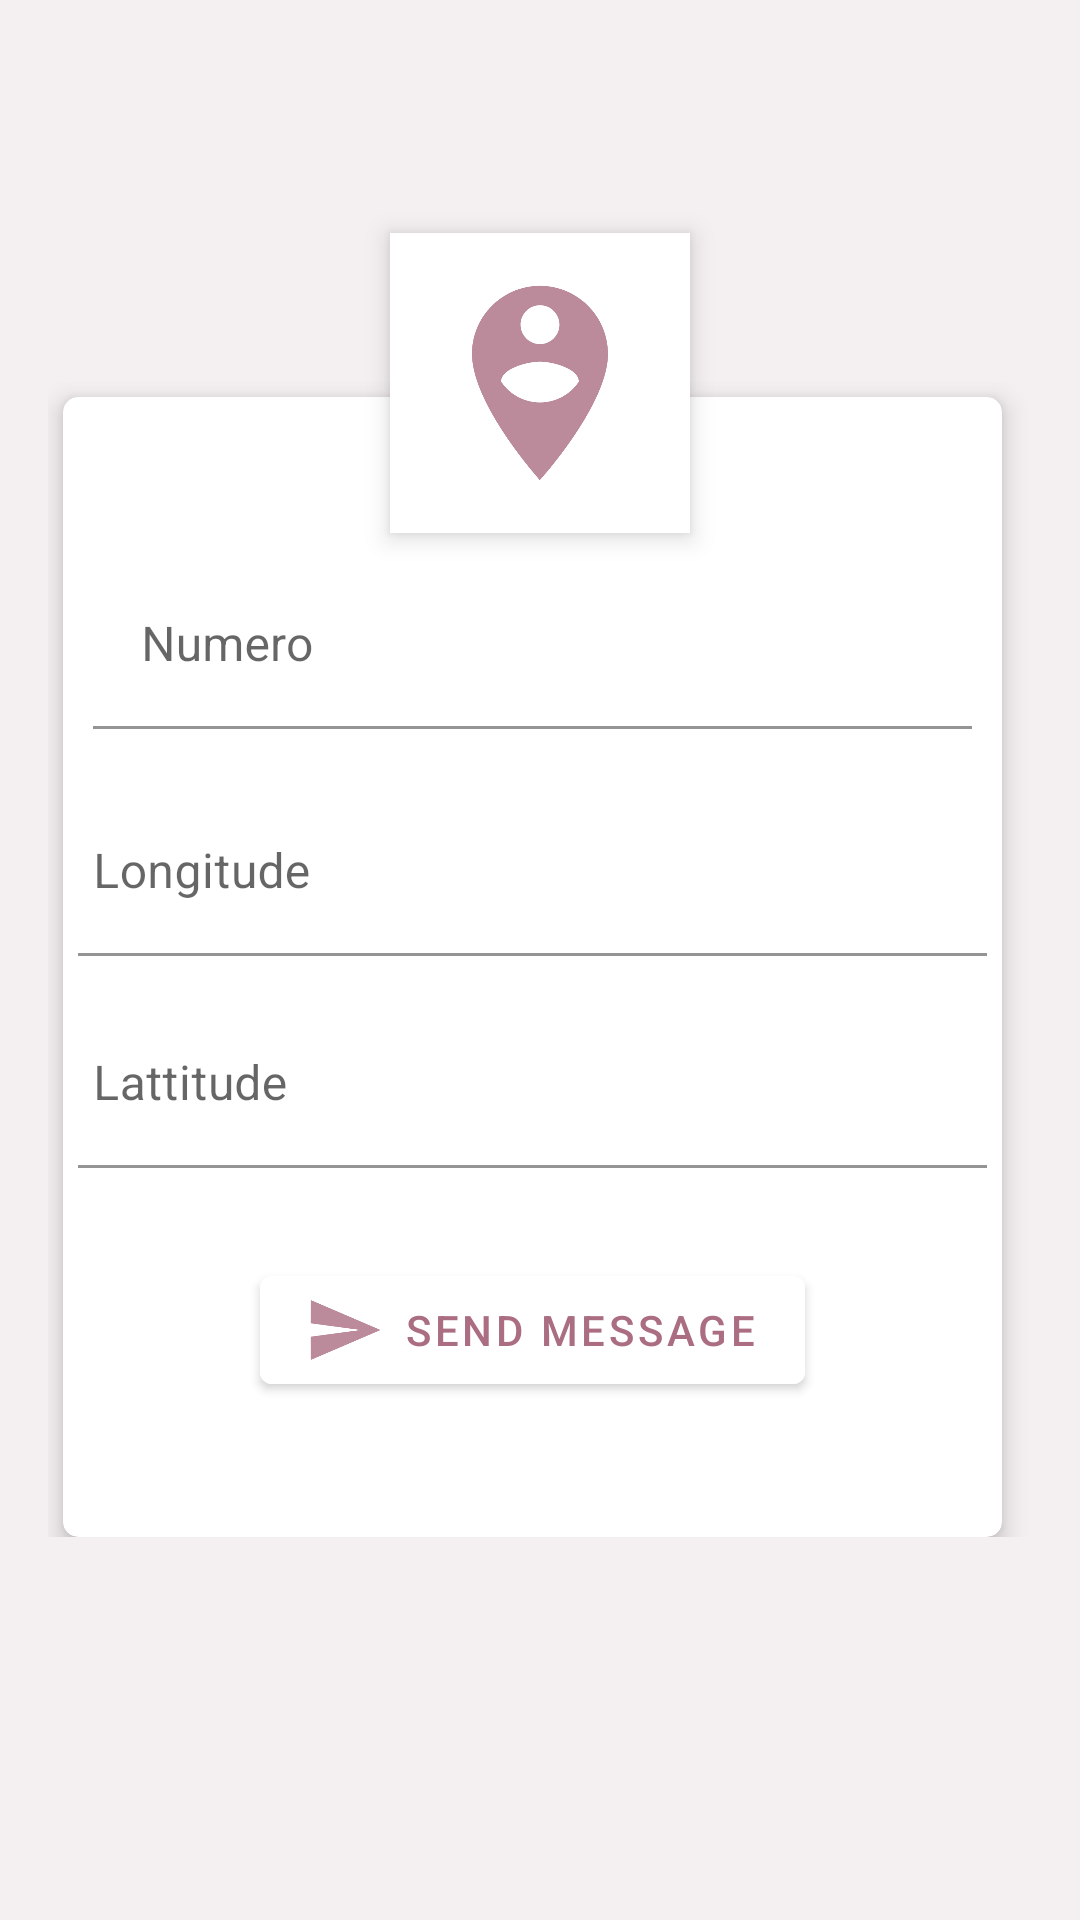

Locate icon controls on the screen. Image size 1080w x 1920h, boxes as {"left": x1, "top": y1, "right": x2, "bottom": y2}.
mylocation: {"left": 390, "top": 233, "right": 690, "bottom": 533}
